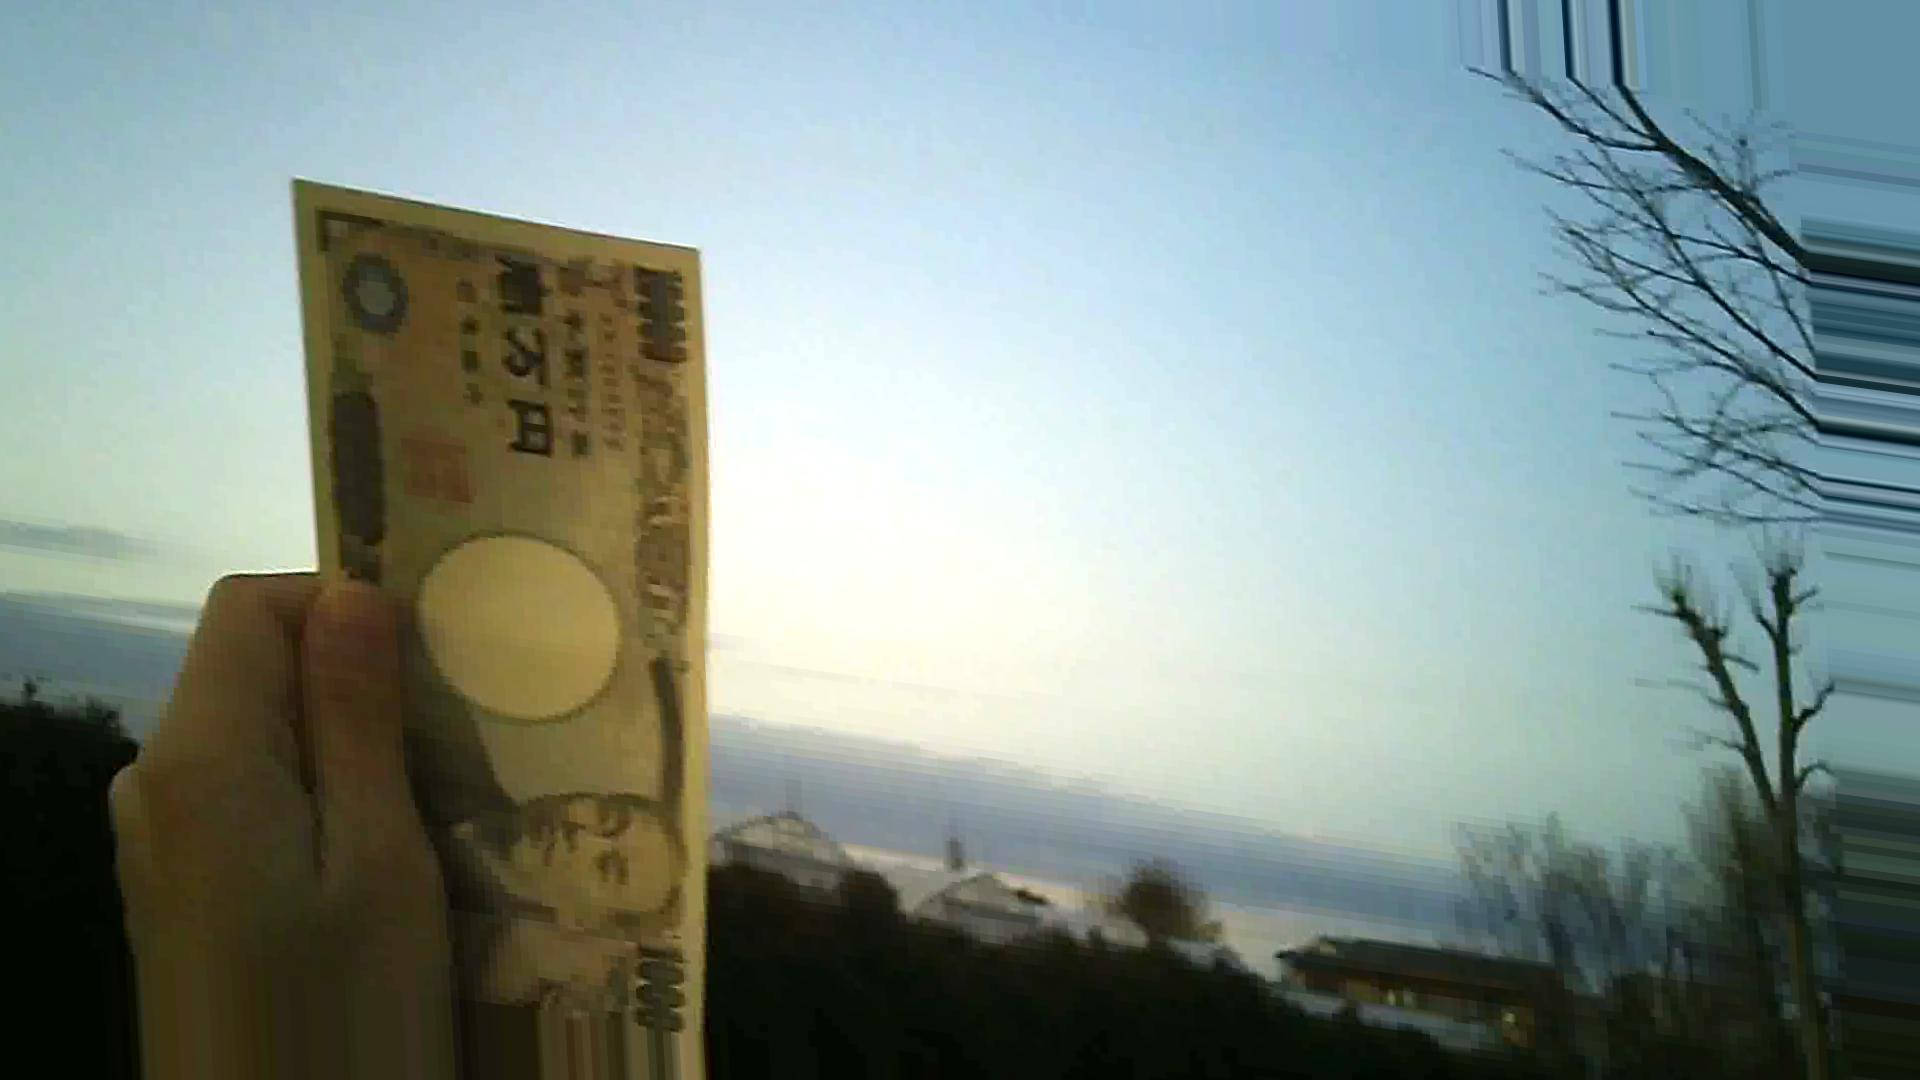10,000 Yen: (248, 164, 716, 1042)
